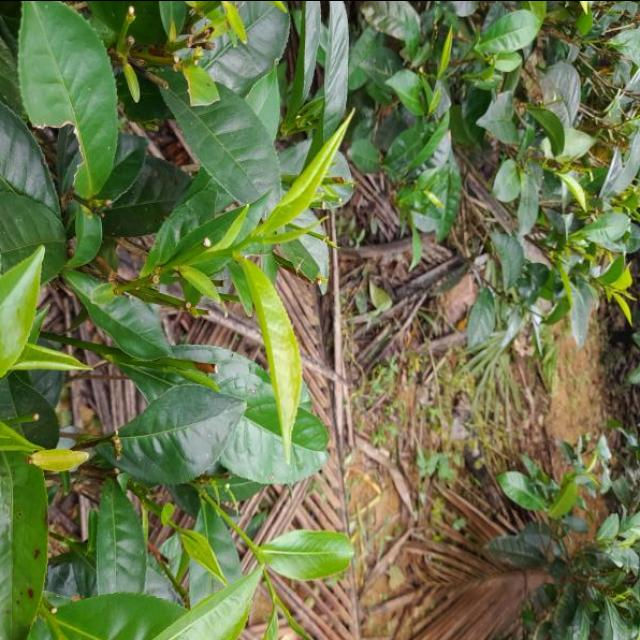Stem: (222, 248, 233, 255)
